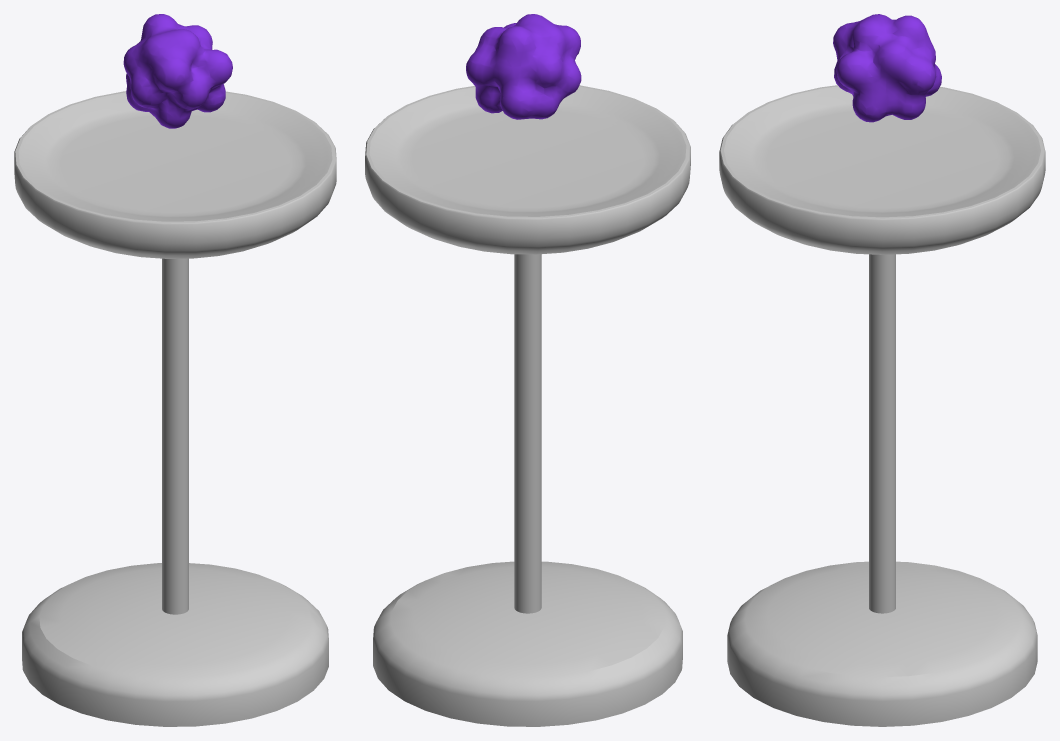
File: atomaltndaksey.fbx
3 renders of one model, left to right at view 1: azimuth 30°, elevation 25°; view 2: azimuth 150°, elevation 25°; view 3: azimuth 270°, elevation 25°, orthographic.
Parts seen in each view (by area): view 1: Cylinder.002, Cylinder.004, Cylinder.003, Mball.019; view 2: Cylinder.002, Cylinder.004, Cylinder.003, Mball.019; view 3: Cylinder.002, Cylinder.004, Cylinder.003, Mball.019.
Part boxes in pixels (x1,y1,x2,y2): Cylinder.002: [14, 91, 336, 258]; Cylinder.004: [22, 563, 328, 726]; Cylinder.003: [162, 258, 188, 614]; Mball.019: [123, 14, 232, 128]; Cylinder.002: [365, 85, 690, 254]; Cylinder.004: [373, 561, 682, 726]; Cylinder.003: [514, 254, 541, 613]; Mball.019: [466, 14, 581, 119]; Cylinder.002: [719, 85, 1045, 254]; Cylinder.004: [727, 561, 1037, 726]; Cylinder.003: [869, 254, 895, 613]; Mball.019: [833, 14, 941, 122].
Size of the model in its own units: 610 by 1328 by 610.
